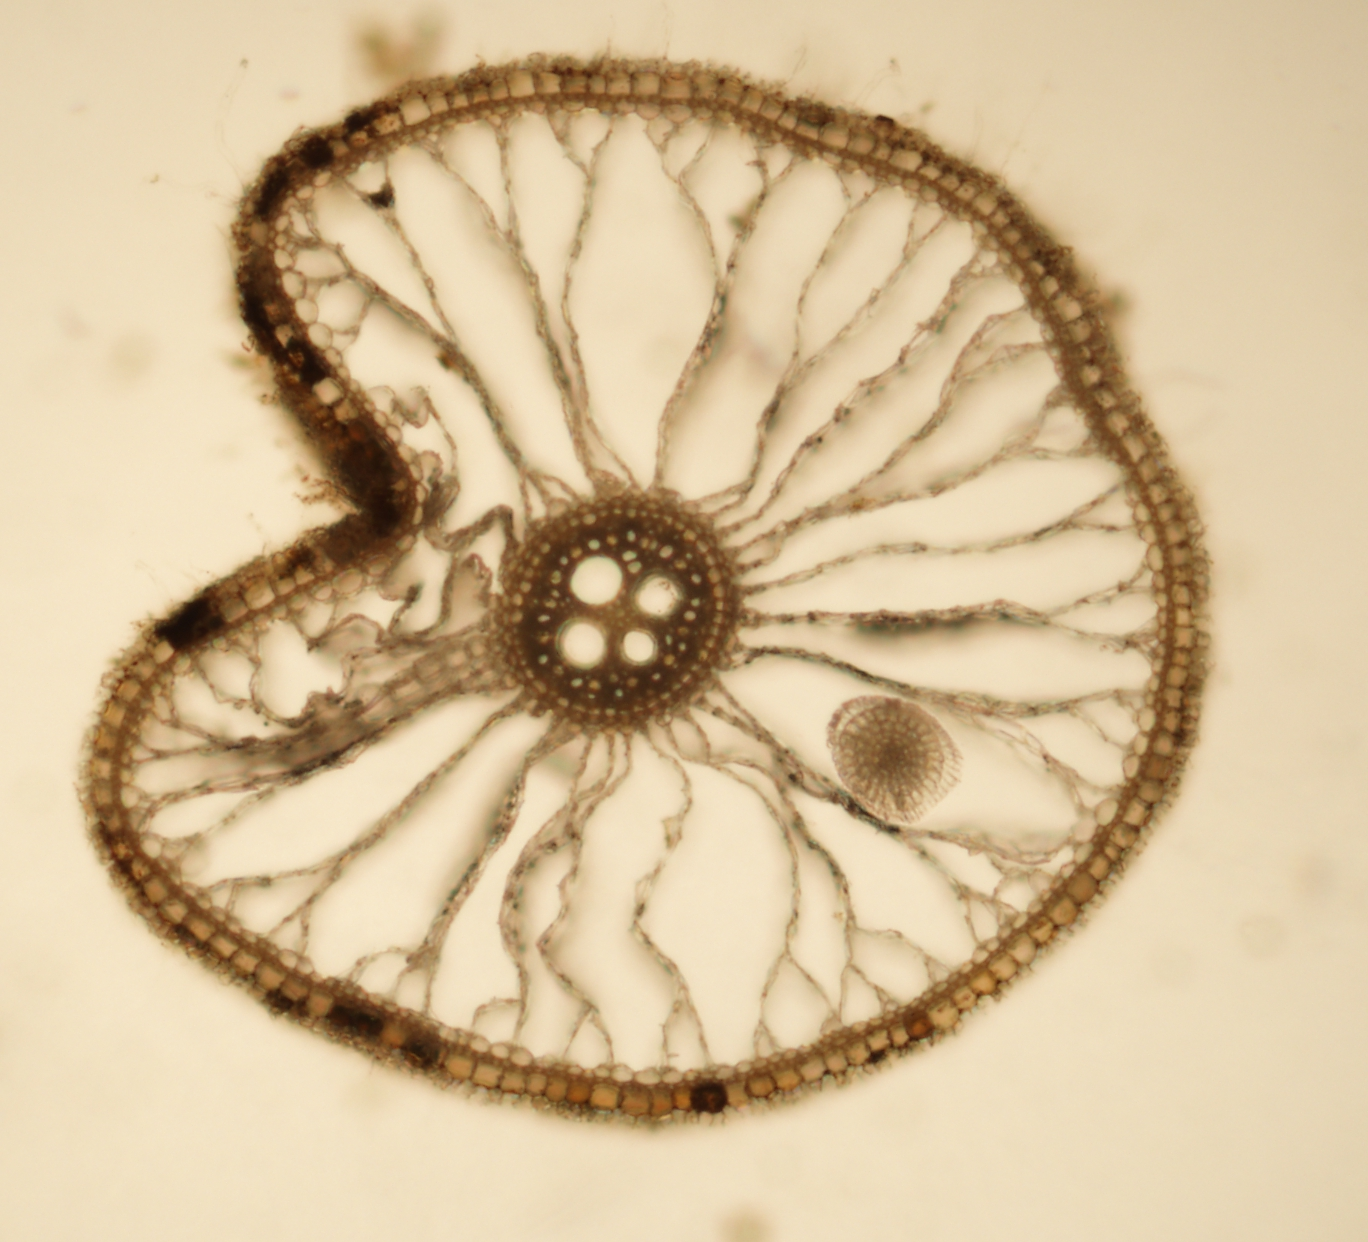lm: (570, 555, 623, 606), (558, 617, 607, 667), (635, 573, 680, 617), (623, 631, 655, 662)
